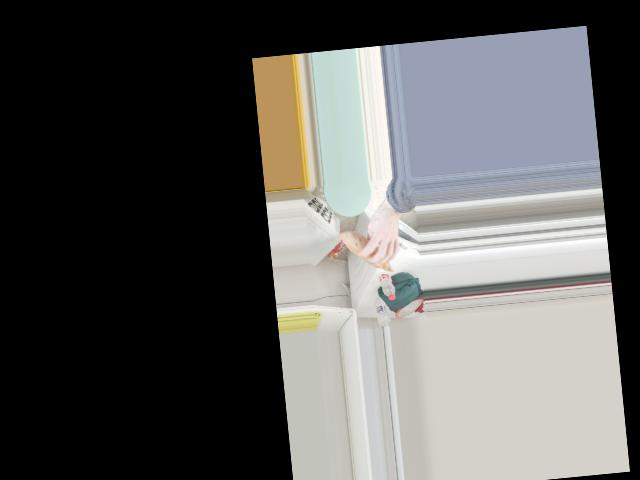sweet_potato: (343, 227, 396, 274)
